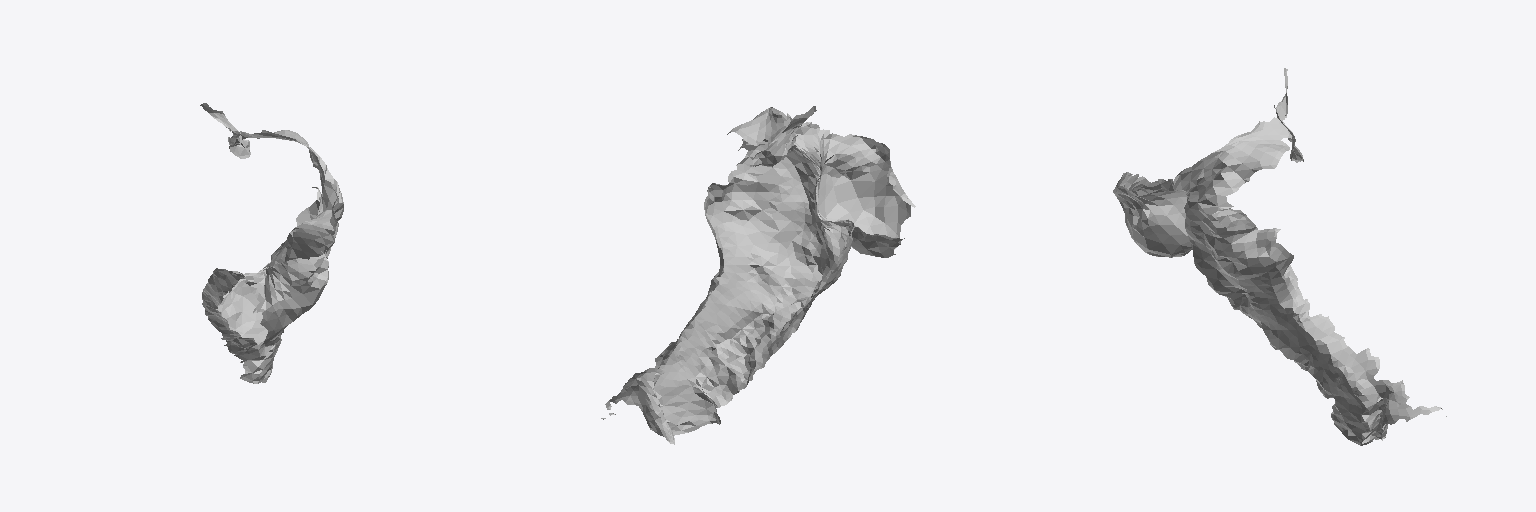
File: R_parahippocampal.obj
3 views of the same model, side by side, from view 1: azimuth 30°, elevation 25°; view 2: azimuth 150°, elevation 25°; view 3: azimuth 270°, elevation 25° (orthographic).
Visible parts, largest first — view 1: R_parahippocampal_L_parahippocampal; view 2: R_parahippocampal_L_parahippocampal; view 3: R_parahippocampal_L_parahippocampal.
Boxes of the visible parts, box(x1,y1,x2,y2) form: R_parahippocampal_L_parahippocampal: box(200, 103, 343, 383); R_parahippocampal_L_parahippocampal: box(601, 106, 915, 444); R_parahippocampal_L_parahippocampal: box(1113, 68, 1446, 445).
Bounding box in the file's own units: 108 × 190 × 176.